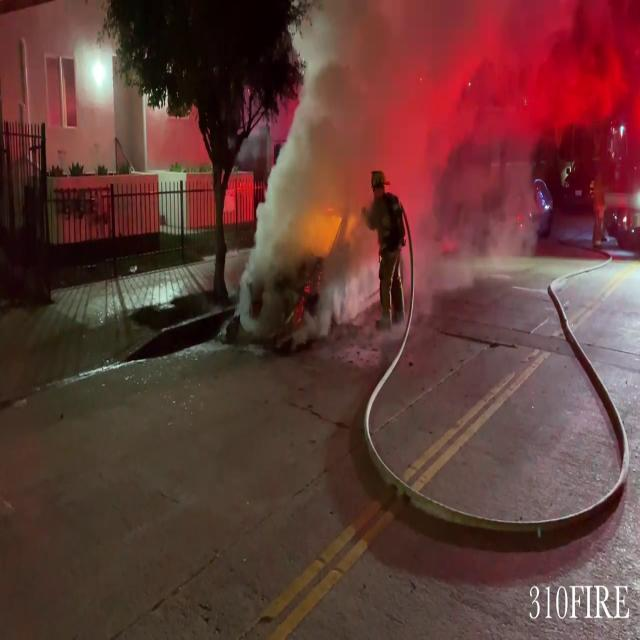Smoke: (248, 0, 640, 183), (245, 0, 453, 325)
